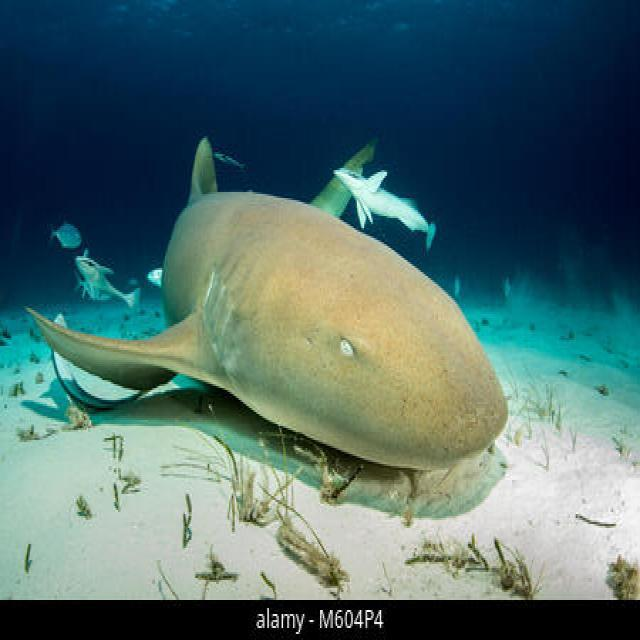Shark: (17, 132, 516, 502)
